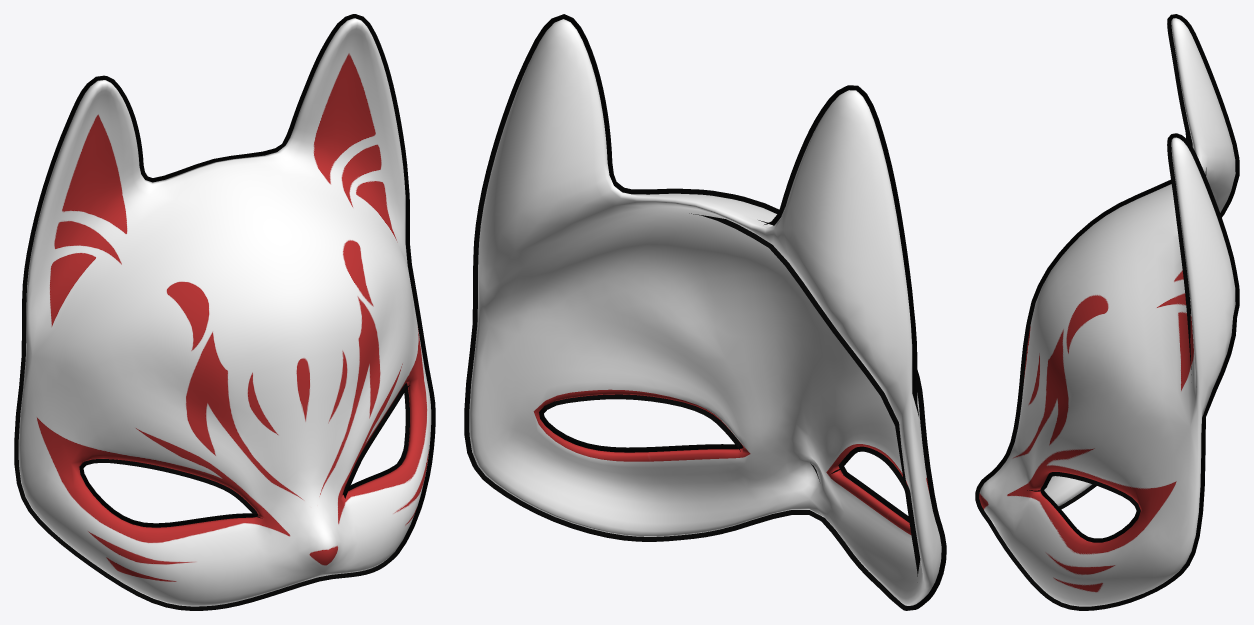
Rendered from kitsune_mask.glb.
The picture shows the model from 3 angles, left to right: view 1: azimuth 30°, elevation 25°; view 2: azimuth 150°, elevation 25°; view 3: azimuth 270°, elevation 25°; orthographic projection. The views are drawn at different scales.
Parts seen in each view (by area): view 1: Box001, Box002; view 2: Box001, Box002; view 3: Box001, Box002.
Part boxes in pixels (left/top/right/bottom): Box001: left=18, top=18, right=431, bottom=606; Box002: left=14, top=14, right=435, bottom=610; Box001: left=469, top=19, right=941, bottom=605; Box002: left=464, top=14, right=946, bottom=610; Box001: left=979, top=18, right=1235, bottom=606; Box002: left=975, top=14, right=1239, bottom=610.
Size of the model in its own units: 0.8377 by 0.9726 by 0.4839.
Materials: 2 (1 with a texture image).
